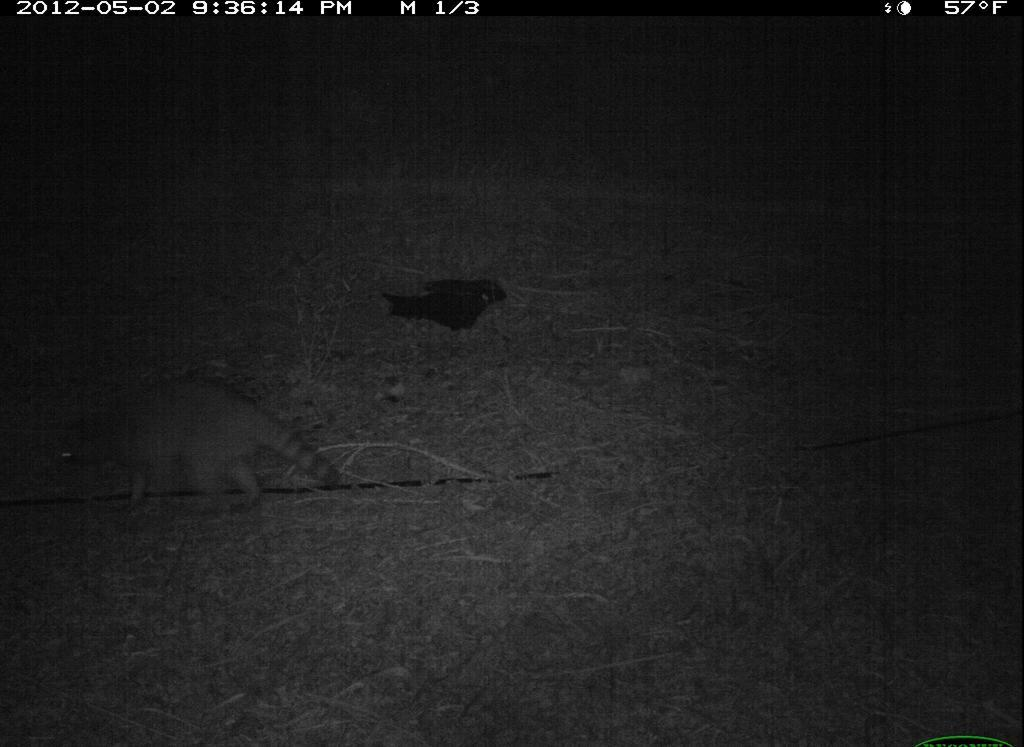raccoon: (39, 365, 349, 521)
